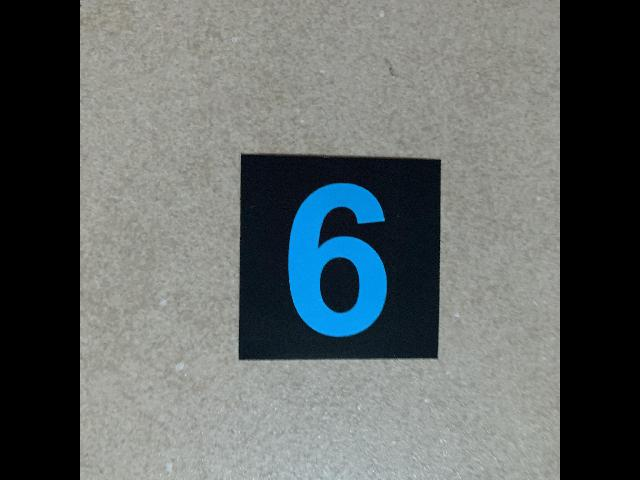six: (238, 150, 443, 361)
